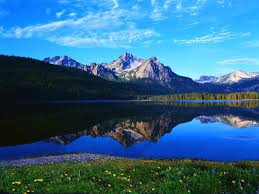lake: (12, 104, 255, 166)
mountain: (7, 51, 257, 98)
sky: (2, 2, 259, 56)
